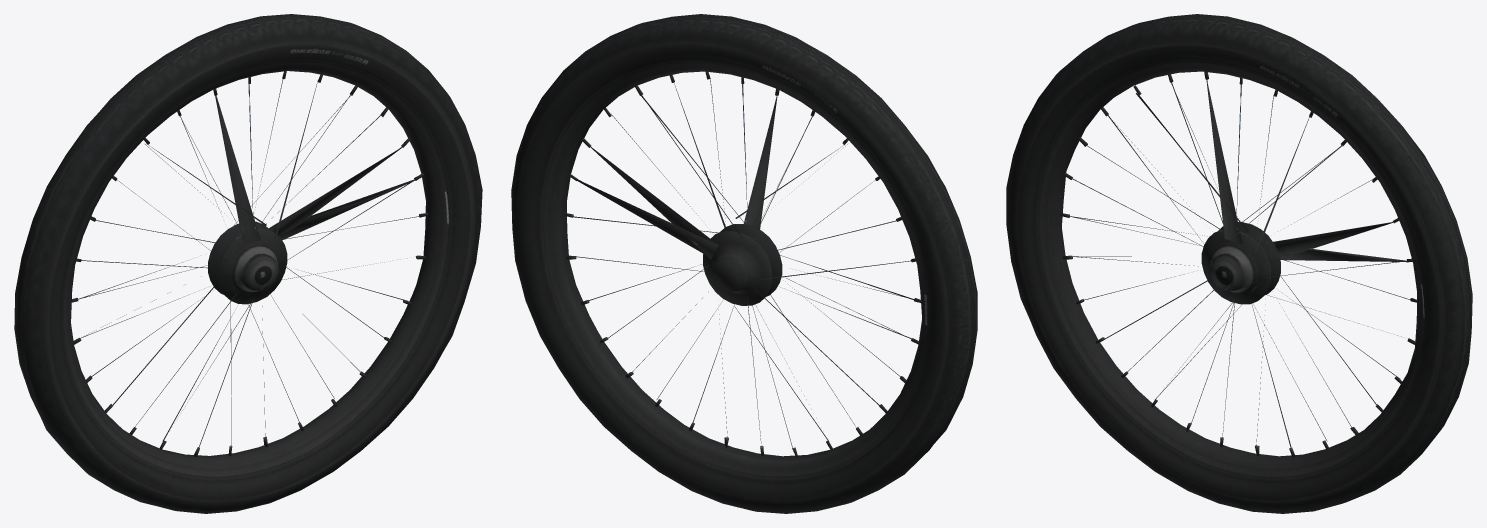
File: bike-wheel.glb
3 renders of one model, left to right at view 1: azimuth 30°, elevation 25°; view 2: azimuth 150°, elevation 25°; view 3: azimuth 330°, elevation 25°, orthographic.
Bounding box in the file's own units: 0.9458 × 0.9497 × 0.1108.
1 material, 1 textured.
